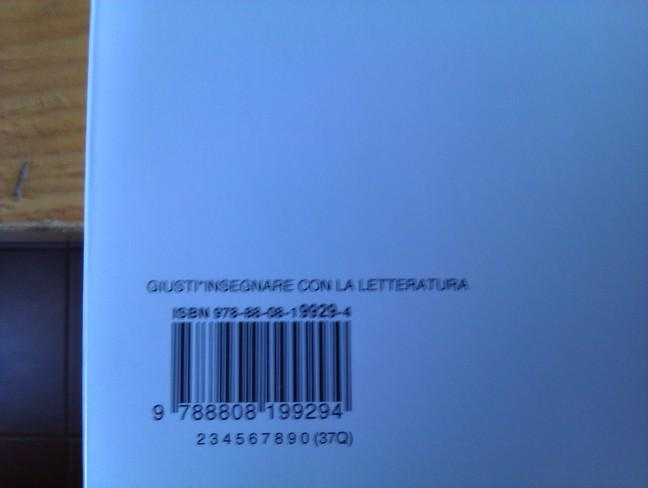Barkod: (135, 319, 377, 422)
